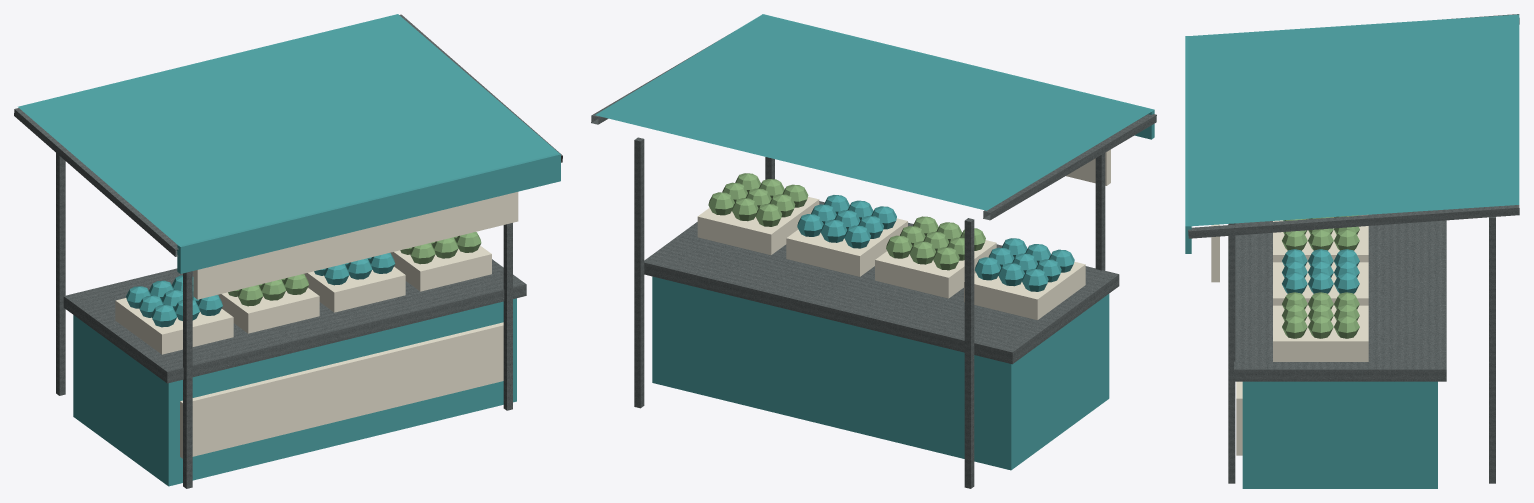
File: tw_market_stall.glb
3 renders of one model, left to right at view 1: azimuth 30°, elevation 25°; view 2: azimuth 150°, elevation 25°; view 3: azimuth 270°, elevation 25°, orthographic. The views are drawn at different scales.
Visible parts, largest first — view 1: FictionalShopAccent, PaintedCream, GalvanizedMetal, LeafAndProduce; view 2: FictionalShopAccent, GalvanizedMetal, PaintedCream, LeafAndProduce; view 3: FictionalShopAccent, GalvanizedMetal, PaintedCream, LeafAndProduce.
Part boxes in pixels (x1,y1,x2,y2): FictionalShopAccent: (18, 14, 560, 486); PaintedCream: (115, 192, 518, 458); GalvanizedMetal: (14, 14, 562, 488); LeafAndProduce: (228, 232, 481, 306); FictionalShopAccent: (595, 14, 1154, 470); GalvanizedMetal: (591, 34, 1156, 488); PaintedCream: (697, 149, 1110, 320); LeafAndProduce: (708, 173, 985, 270); FictionalShopAccent: (1185, 14, 1519, 488); GalvanizedMetal: (1188, 14, 1519, 483); PaintedCream: (1211, 214, 1368, 455); LeafAndProduce: (1282, 215, 1359, 338).
Size of the model in its own units: 4.22 by 2.97 by 3.08.
5 materials, 1 textured.
